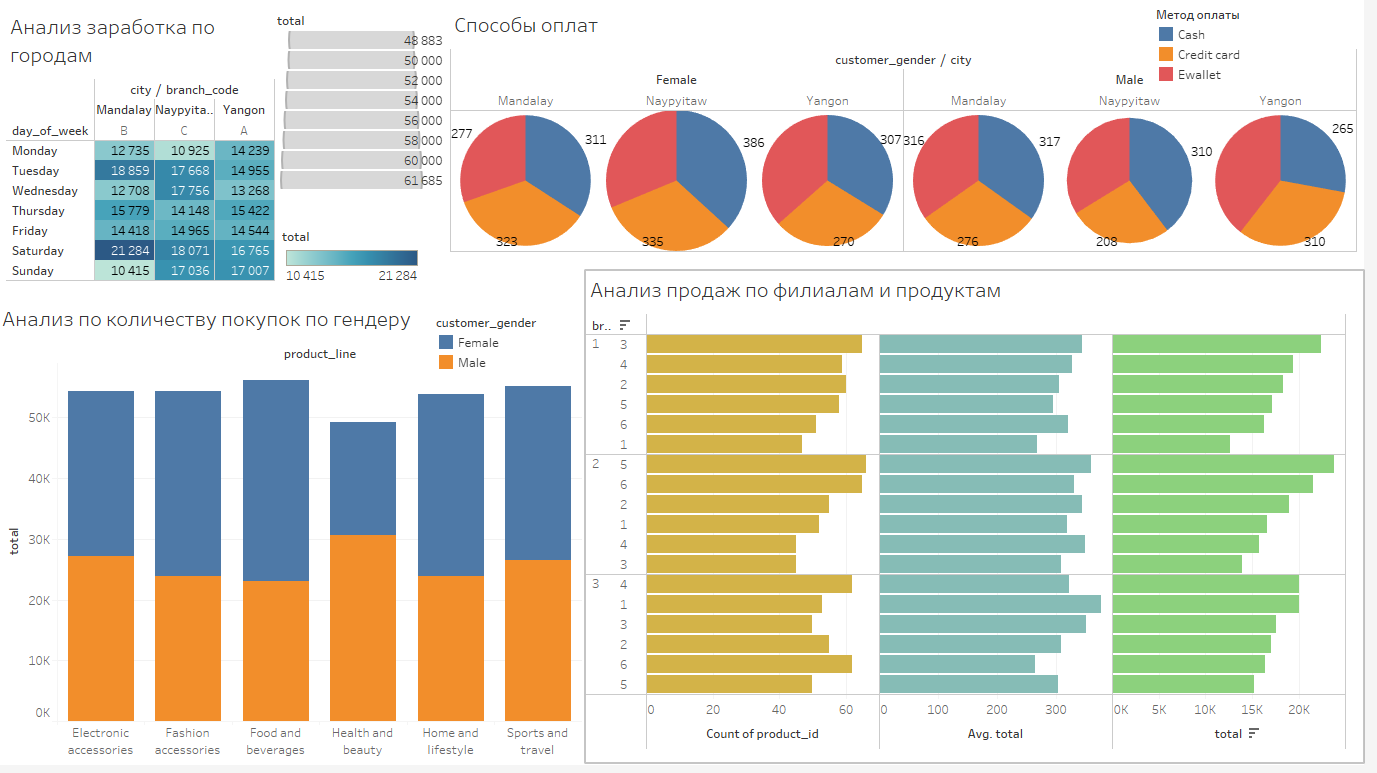

The page's visual inventory and layout, read from the dashboard file:
{"tool":"tableau","page":{"name":"Dashboard","canvas":[1366,768],"ordinal":0},"visuals":[{"type":"worksheet","title":"Способы оплат","mark":"Pie","cols":["customer_gender","city"],"box":[452,9,911,256]},{"type":"legend","title":"Способы оплат","param":"[federated.176b6pp100k0kg1chrewu0p8ef9d].[none:payment_method:nk]","box":[1158,9,205,98]},{"type":"worksheet","title":"Анализ заработка по городам","mark":"Square","rows":["day_of_week"],"cols":["city","branch_code"],"box":[8,11,452,302]},{"type":"legend","title":"Способы оплат","param":"[federated.176b6pp100k0kg1chrewu0p8ef9d].[sum:total:qk]","box":[279,15,170,182]},{"type":"legend","title":"Анализ заработка по городам","param":"[federated.176b6pp100k0kg1chrewu0p8ef9d].[sum:total:qk]","box":[284,231,140,74]},{"type":"worksheet","title":"Анализ продаж по филиалам и продуктам","mark":"Automatic","rows":["branch_id","product_id"],"cols":["product_id","total","total"],"box":[588,274,779,491]},{"type":"worksheet","title":"Анализ по количеству покупок по гендеру","mark":"Automatic","rows":["total"],"cols":["product_line"],"box":[0,303,584,461]},{"type":"legend","title":"Анализ по количеству покупок по гендеру","param":"[federated.176b6pp100k0kg1chrewu0p8ef9d].[none:customer_gender:nk]","box":[438,317,140,58]}]}

Visuals, with their boxes in screenshot pixels (x1, y1, x2, y2), scaled from the page's 1366x768 canvas onto the 1377x773 screenshot:
"Способы оплат" worksheet (Pie marks): [x1=456, y1=9, x2=1374, y2=267]
"Способы оплат" legend: [x1=1167, y1=9, x2=1374, y2=108]
"Анализ заработка по городам" worksheet (Square marks): [x1=8, y1=11, x2=464, y2=315]
"Способы оплат" legend: [x1=281, y1=15, x2=453, y2=198]
"Анализ заработка по городам" legend: [x1=286, y1=233, x2=427, y2=307]
"Анализ продаж по филиалам и продуктам" worksheet: [x1=593, y1=276, x2=1376, y2=770]
"Анализ по количеству покупок по гендеру" worksheet: [x1=0, y1=305, x2=589, y2=769]
"Анализ по количеству покупок по гендеру" legend: [x1=442, y1=319, x2=583, y2=377]
